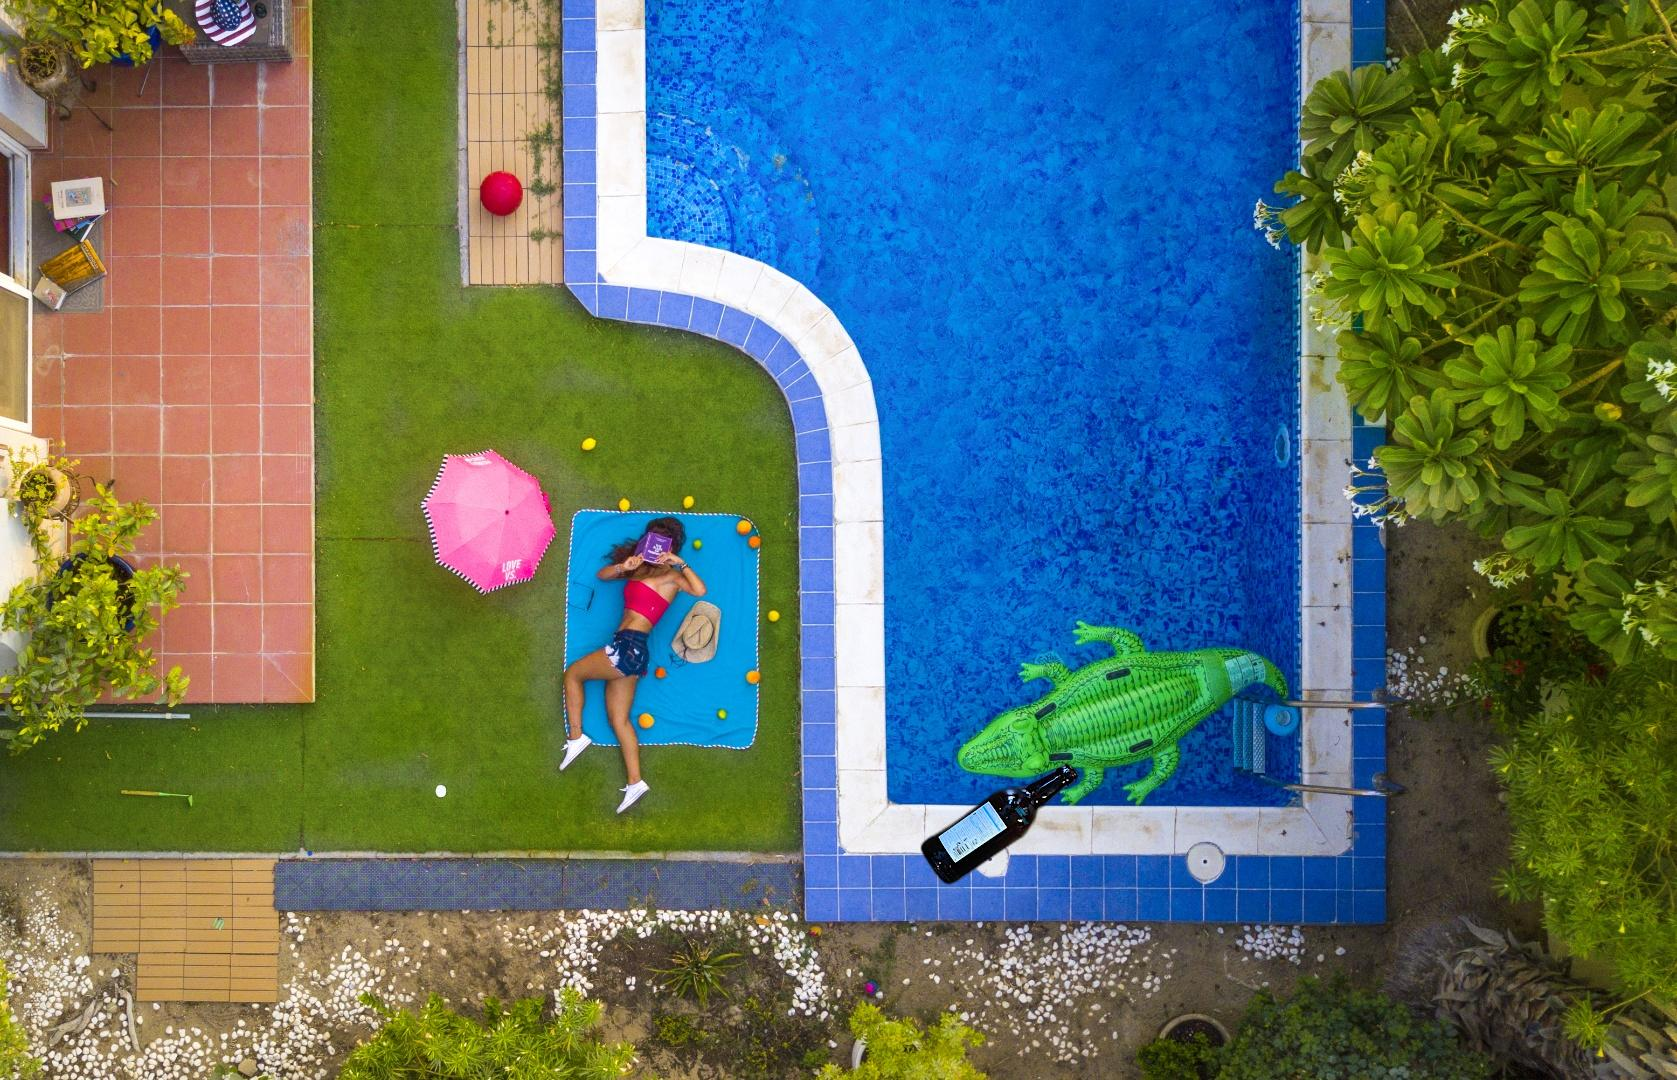glass: (916, 757, 1083, 889)
